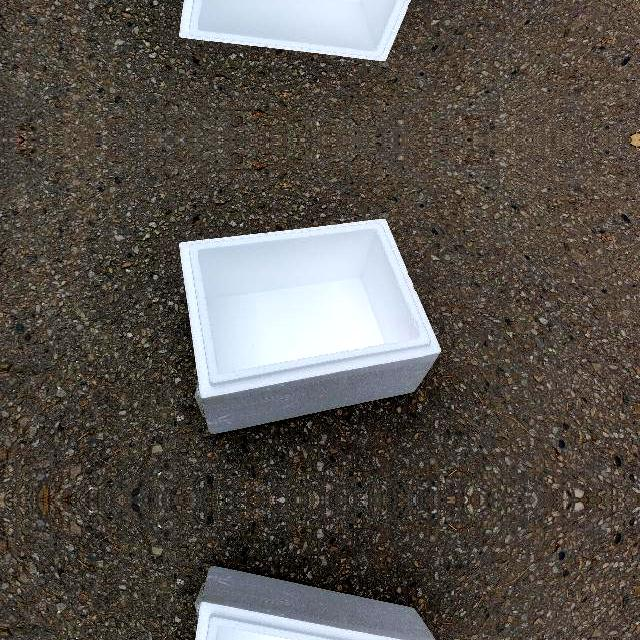Styrofoam: (177, 216, 441, 434), (179, 220, 441, 433), (177, 566, 441, 640), (195, 567, 436, 640), (177, 0, 441, 63), (179, 0, 412, 60)
